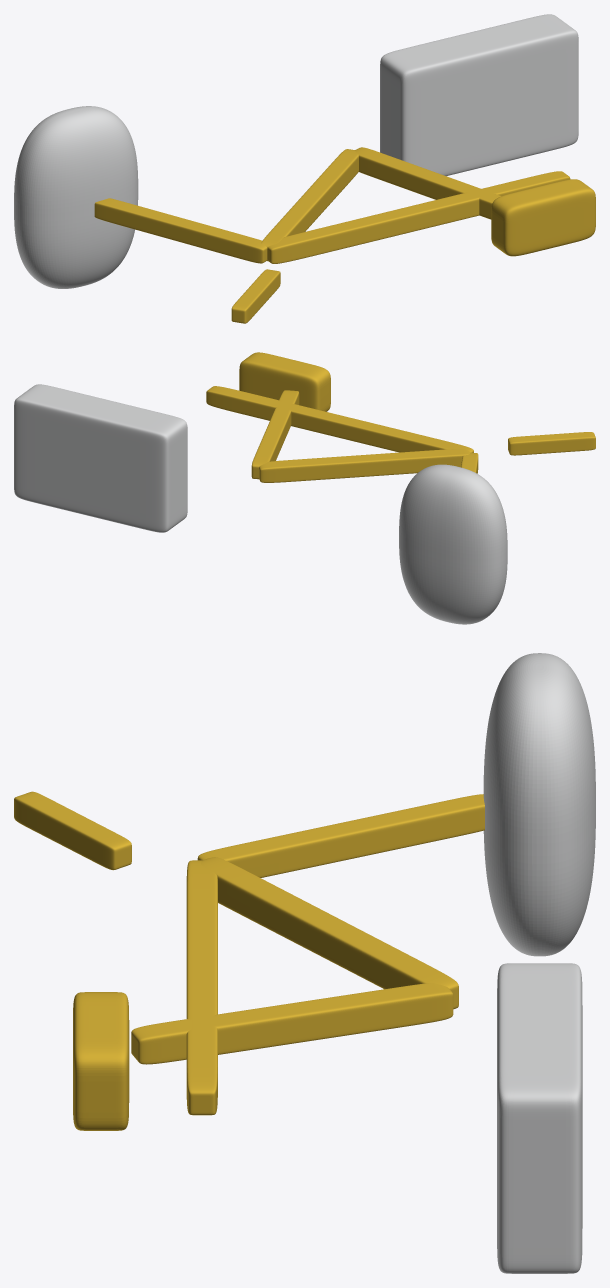
File: bicycle_wrong_wheel_sq.glb
3 views of the same model, one above another, from view 1: azimuth 30°, elevation 25°; view 2: azimuth 150°, elevation 25°; view 3: azimuth 270°, elevation 25° (orthographic). The views are drawn at different scales.
Parts seen in each view (by area): view 1: superquadric_6, superquadric_7, superquadric_0, superquadric_4, superquadric_3, superquadric_2, superquadric_1, superquadric_5; view 2: superquadric_6, superquadric_7, superquadric_0, superquadric_1, superquadric_4, superquadric_5, superquadric_2; view 3: superquadric_7, superquadric_6, superquadric_2, superquadric_1, superquadric_3, superquadric_0, superquadric_4, superquadric_5.
Boxes of the visible parts, box(x1,y1,x2,y2) form: superquadric_6: box(380, 14, 578, 176); superquadric_7: box(14, 106, 138, 288); superquadric_0: box(267, 171, 570, 263); superquadric_4: box(491, 179, 595, 256); superquadric_3: box(94, 198, 267, 263); superquadric_2: box(355, 147, 501, 219); superquadric_1: box(261, 149, 358, 261); superquadric_5: box(231, 269, 280, 323); superquadric_6: box(14, 384, 187, 532); superquadric_7: box(399, 464, 507, 624); superquadric_0: box(206, 386, 473, 452); superquadric_1: box(259, 449, 470, 482); superquadric_4: box(239, 352, 330, 411); superquadric_5: box(508, 432, 595, 455); superquadric_2: box(251, 390, 299, 479); superquadric_7: box(483, 653, 595, 956); superquadric_6: box(497, 963, 582, 1273); superquadric_2: box(131, 983, 453, 1064); superquadric_1: box(201, 857, 458, 1009); superquadric_3: box(197, 794, 484, 877); superquadric_0: box(186, 860, 217, 1115); superquadric_4: box(73, 992, 129, 1130); superquadric_5: box(14, 791, 131, 870).
Size of the model in its own units: 1 by 0.3 by 0.5749.
